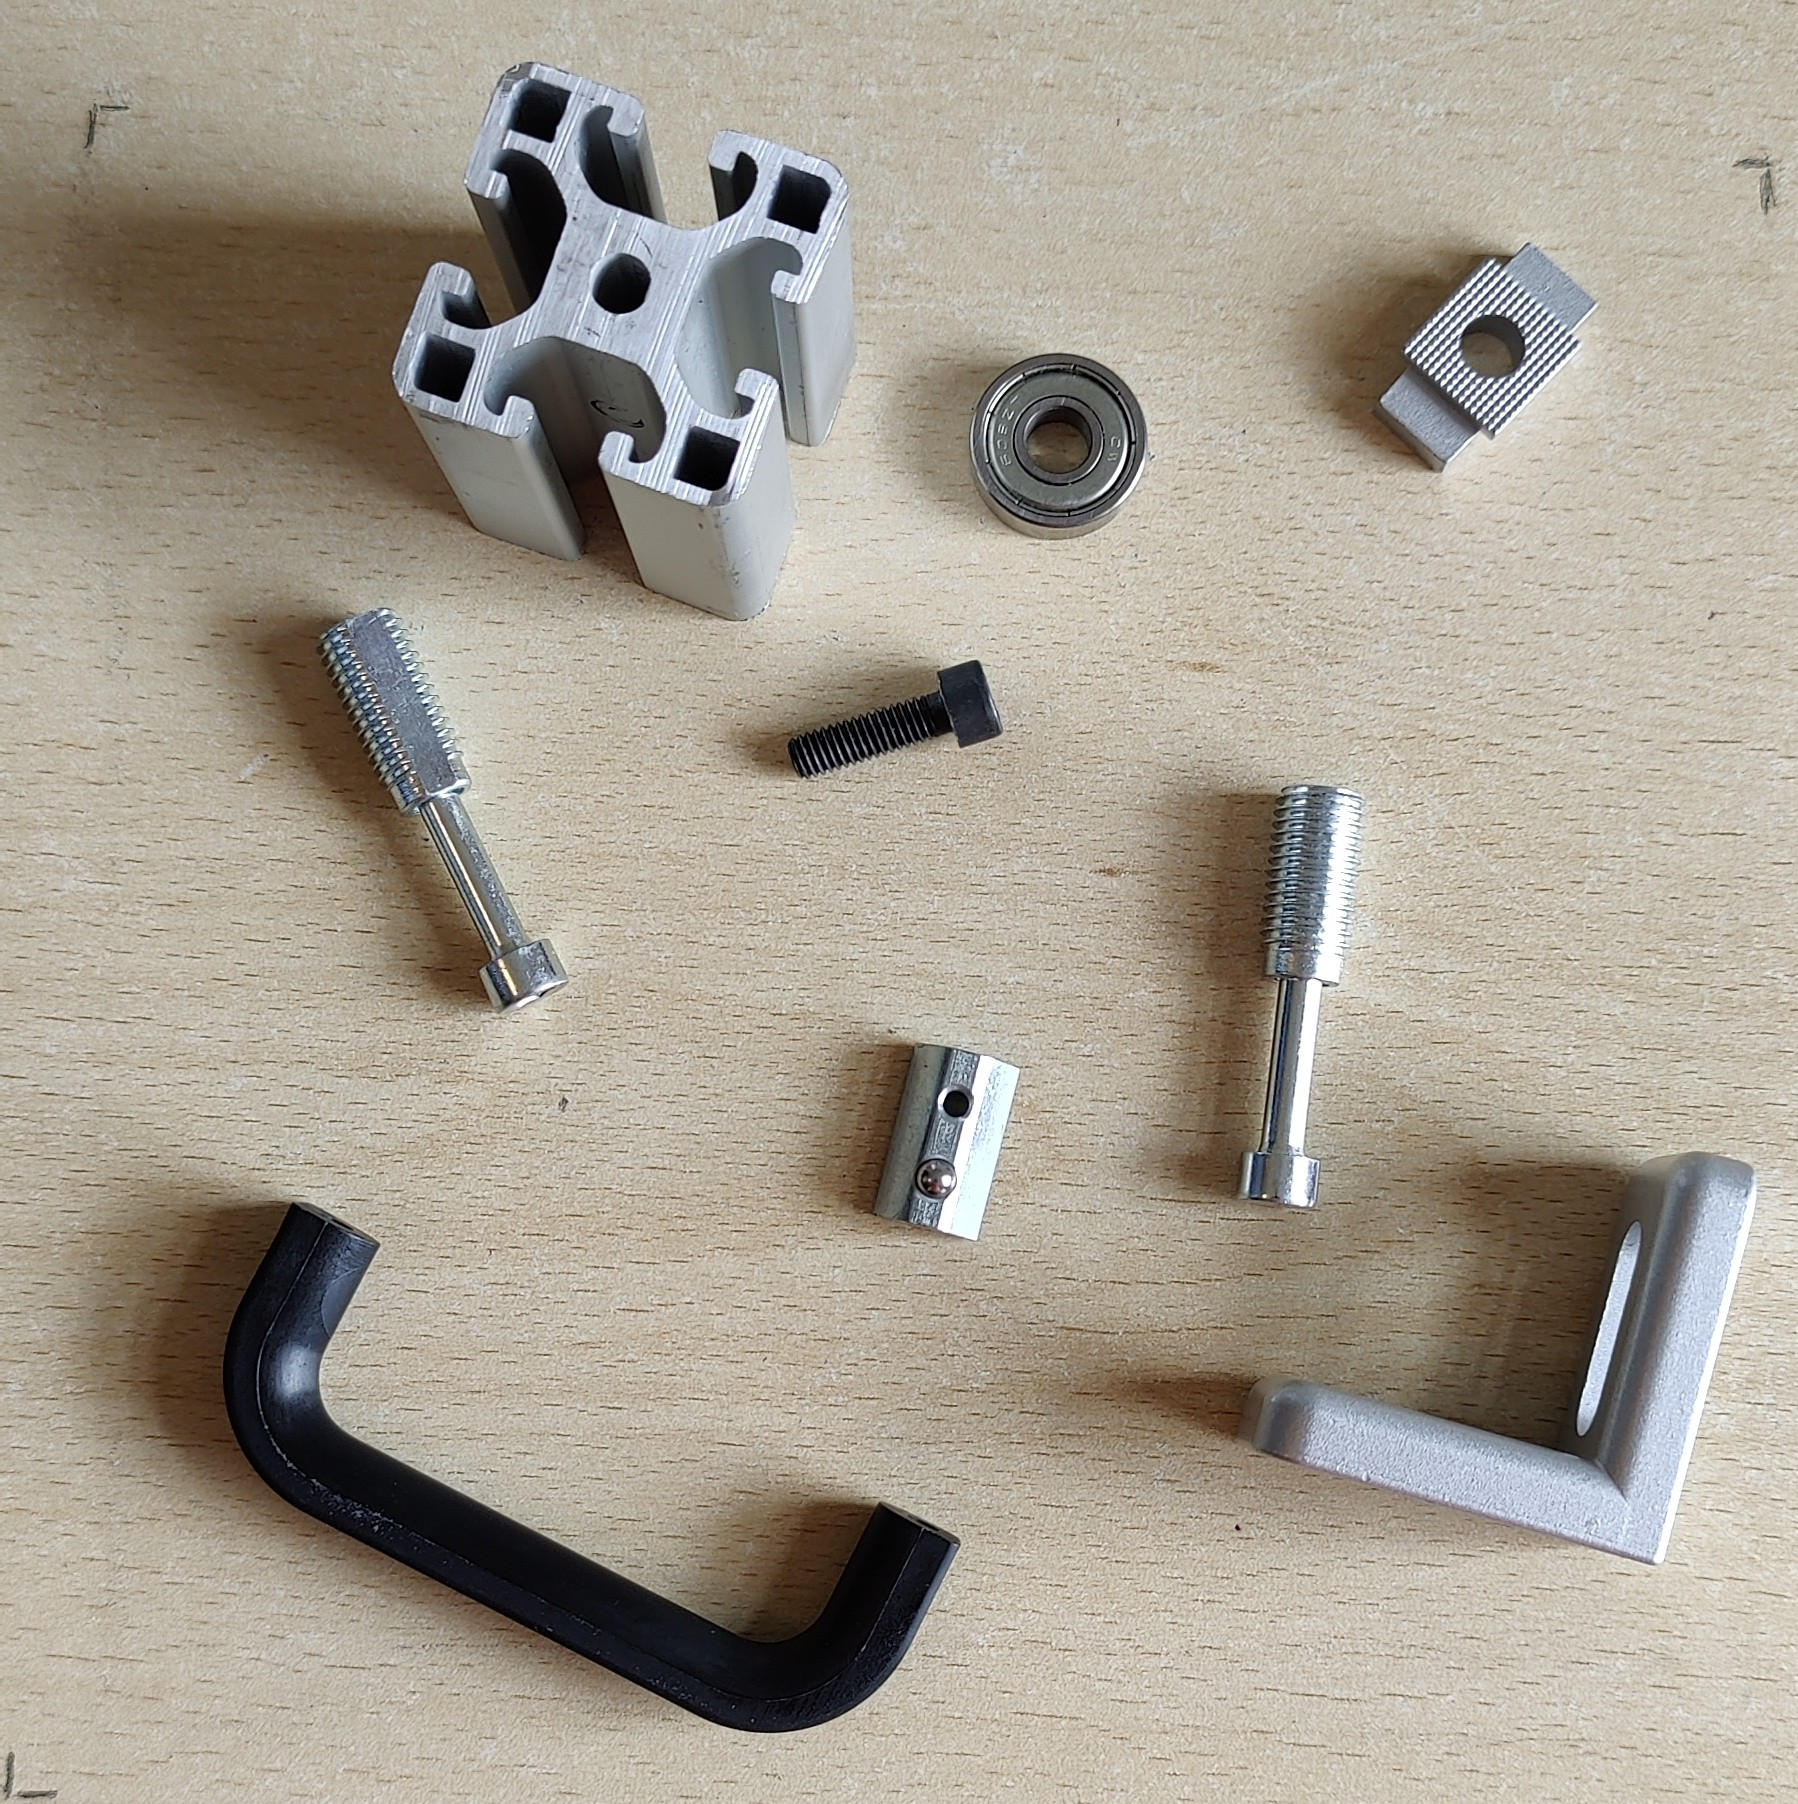Aluminium Extension: (389, 56, 858, 625)
Ball Bearing: (965, 347, 1148, 542)
Multiwinkel: (1250, 1149, 1762, 1569)
Pull Handle: (217, 1197, 962, 1737)
Shoulder Socket Head Cap Screw: (314, 602, 575, 1022), (1232, 787, 1367, 1211)
Socket Head Cap Screw: (787, 653, 1006, 780)
T Nut Square: (1376, 235, 1600, 471)
T Spring Nut: (868, 1040, 1026, 1248)
